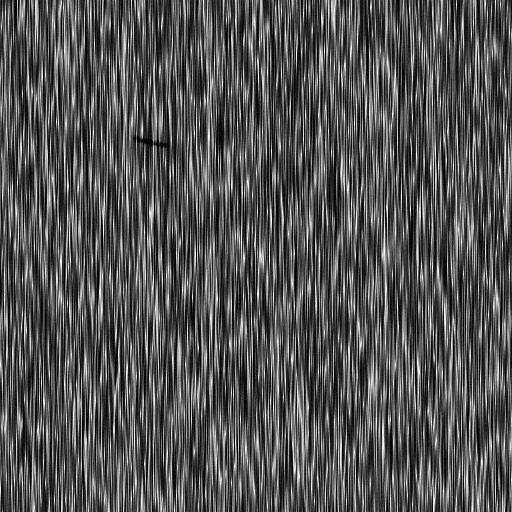DefectTypeC: (132, 134, 171, 156)
